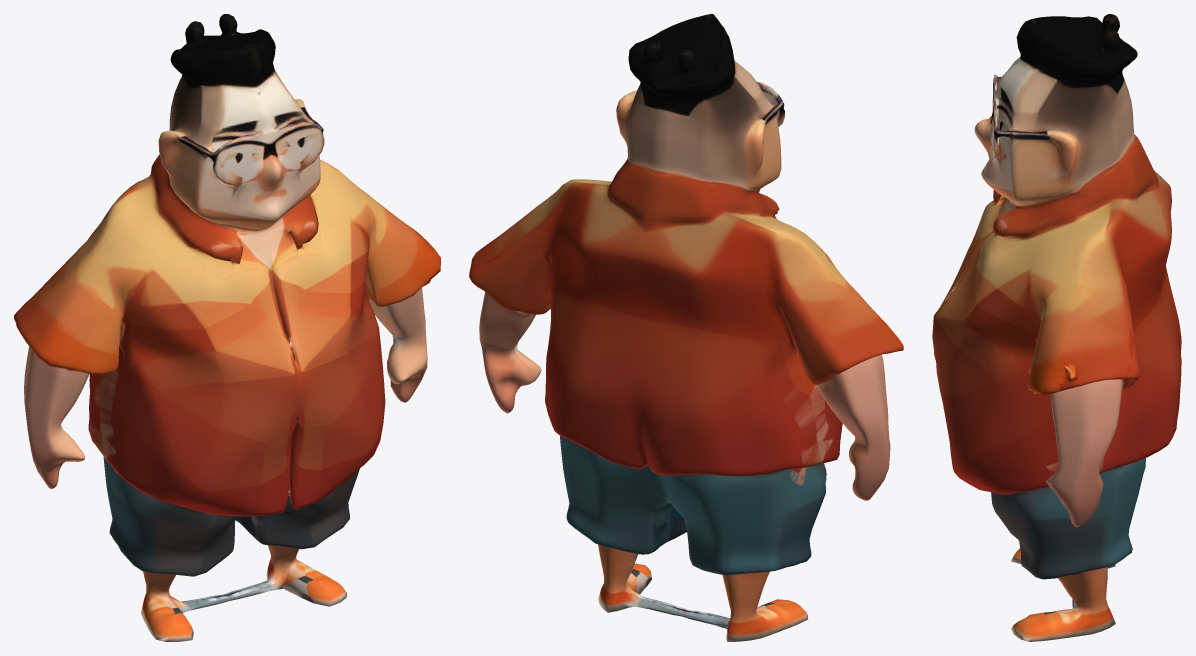
File: mainChara.fbx
The picture shows the model from 3 angles, left to right: view 1: azimuth 30°, elevation 25°; view 2: azimuth 150°, elevation 25°; view 3: azimuth 270°, elevation 25°; orthographic projection.
Parts seen in each view (by area): view 1: model; view 2: model; view 3: model.
Boxes of the visible parts, box(x1,y1,x2,y2) form: model: box(14, 14, 440, 641); model: box(469, 14, 903, 641); model: box(932, 14, 1181, 641).
Size of the model in its own units: 139 by 189 by 74.2.
